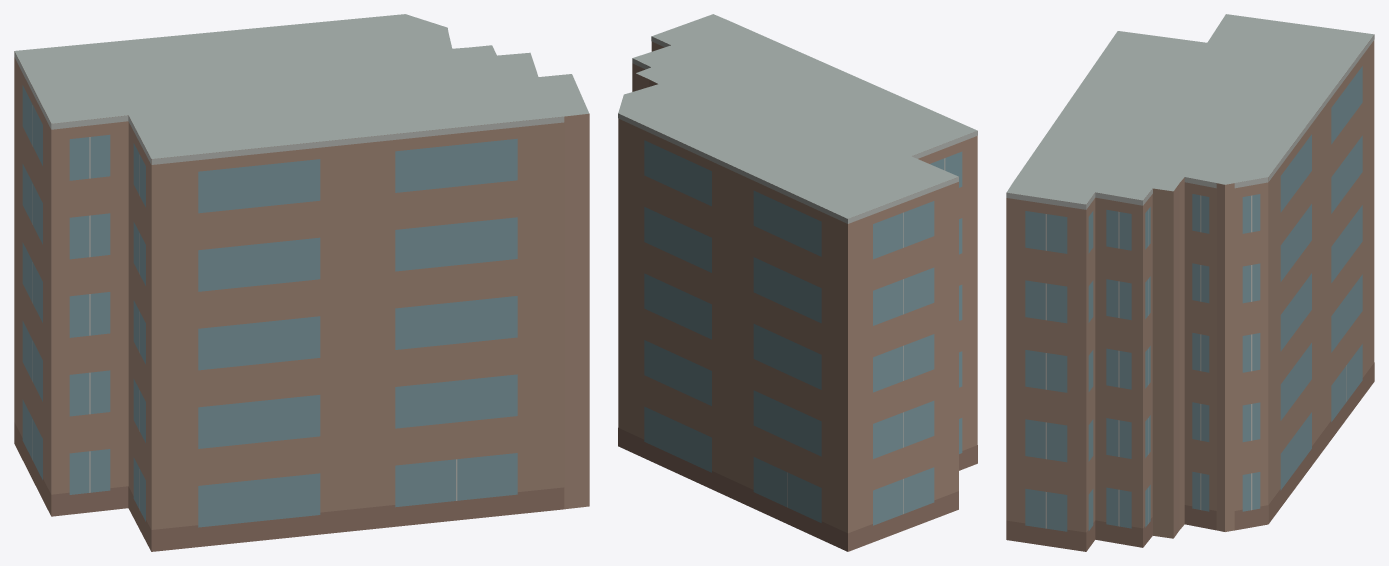
The model's file is survey-upis-32848008.glb.
The picture shows the model from 3 angles, left to right: view 1: azimuth 30°, elevation 25°; view 2: azimuth 150°, elevation 25°; view 3: azimuth 270°, elevation 25°; orthographic projection. The views are drawn at different scales.
Parts seen in each view (by area): view 1: survey-upis-32848008.tmp; view 2: survey-upis-32848008.tmp; view 3: survey-upis-32848008.tmp.
Boxes of the visible parts, x1,y1,x2,y2 form: survey-upis-32848008.tmp: [14, 14, 589, 551]; survey-upis-32848008.tmp: [618, 14, 977, 551]; survey-upis-32848008.tmp: [1006, 14, 1374, 551].
Size of the model in its own units: 18.95 by 16.1 by 15.47.
